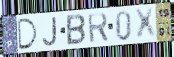0: (114, 10, 133, 42)
B: (66, 13, 87, 47)
D: (16, 17, 39, 51)
J: (41, 16, 59, 48)
R: (87, 12, 110, 44)
X: (133, 7, 158, 42)
